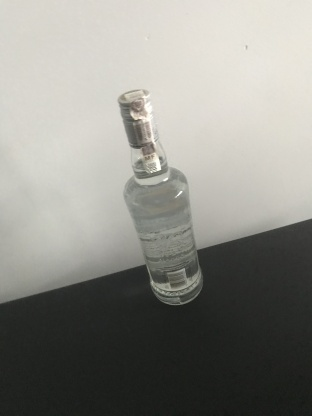nakretka: (115, 86, 159, 149)
